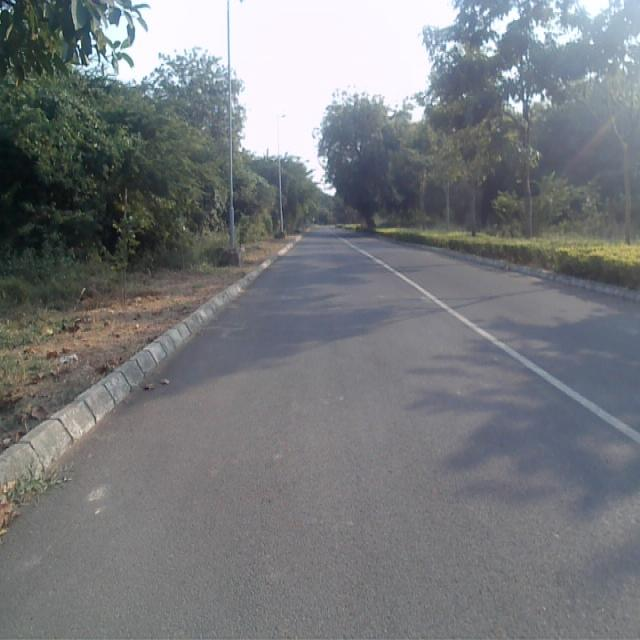lane: (0, 233, 640, 640)
